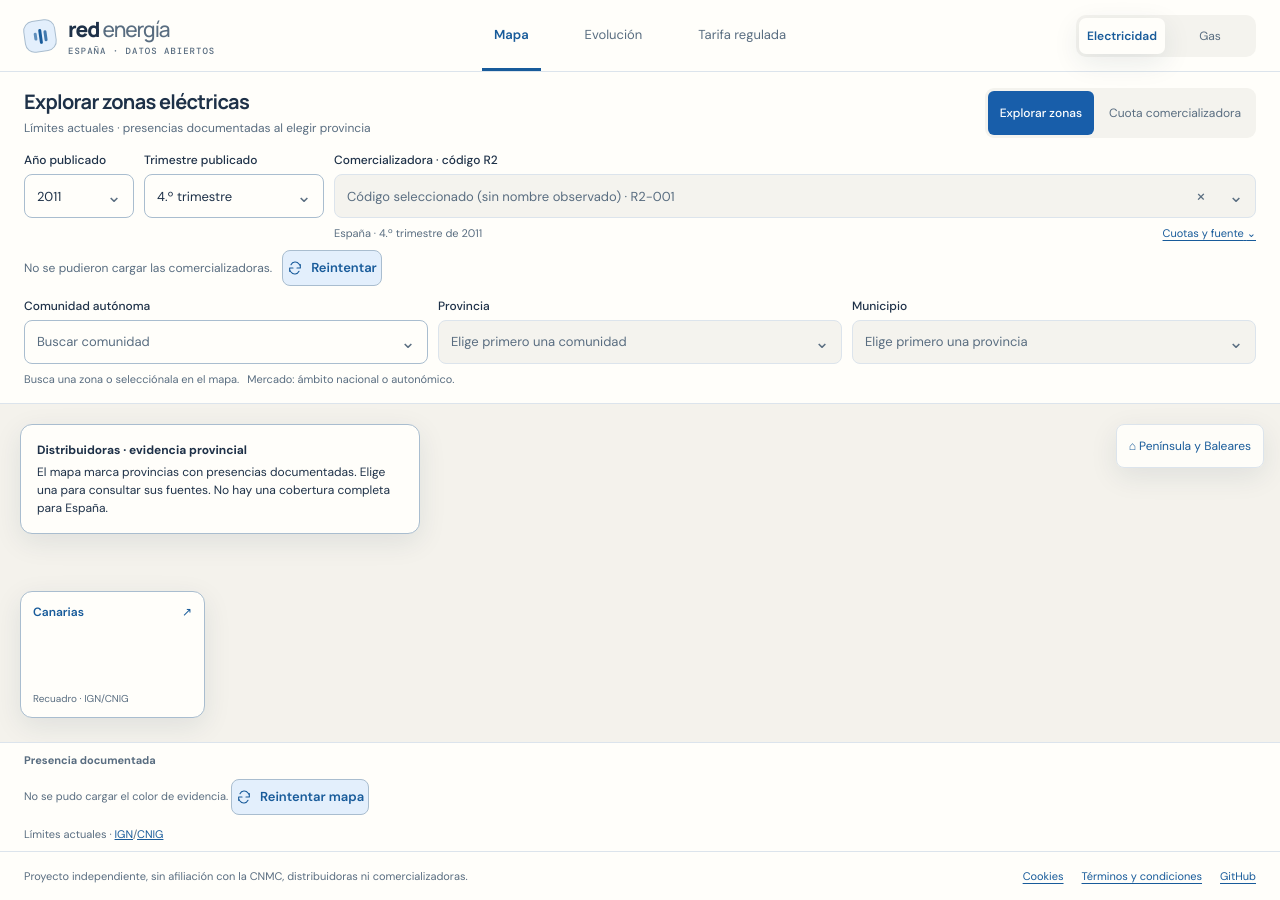
it: map loading errors › recovers an older published quarter and prevents duplicate retries while a request is pending
Check: the dropdown labelled "Comunidad autónoma" is enabled, box [24,320,428,364]
Click the button "Reintentar" at (332, 268), box [282,250,382,286]
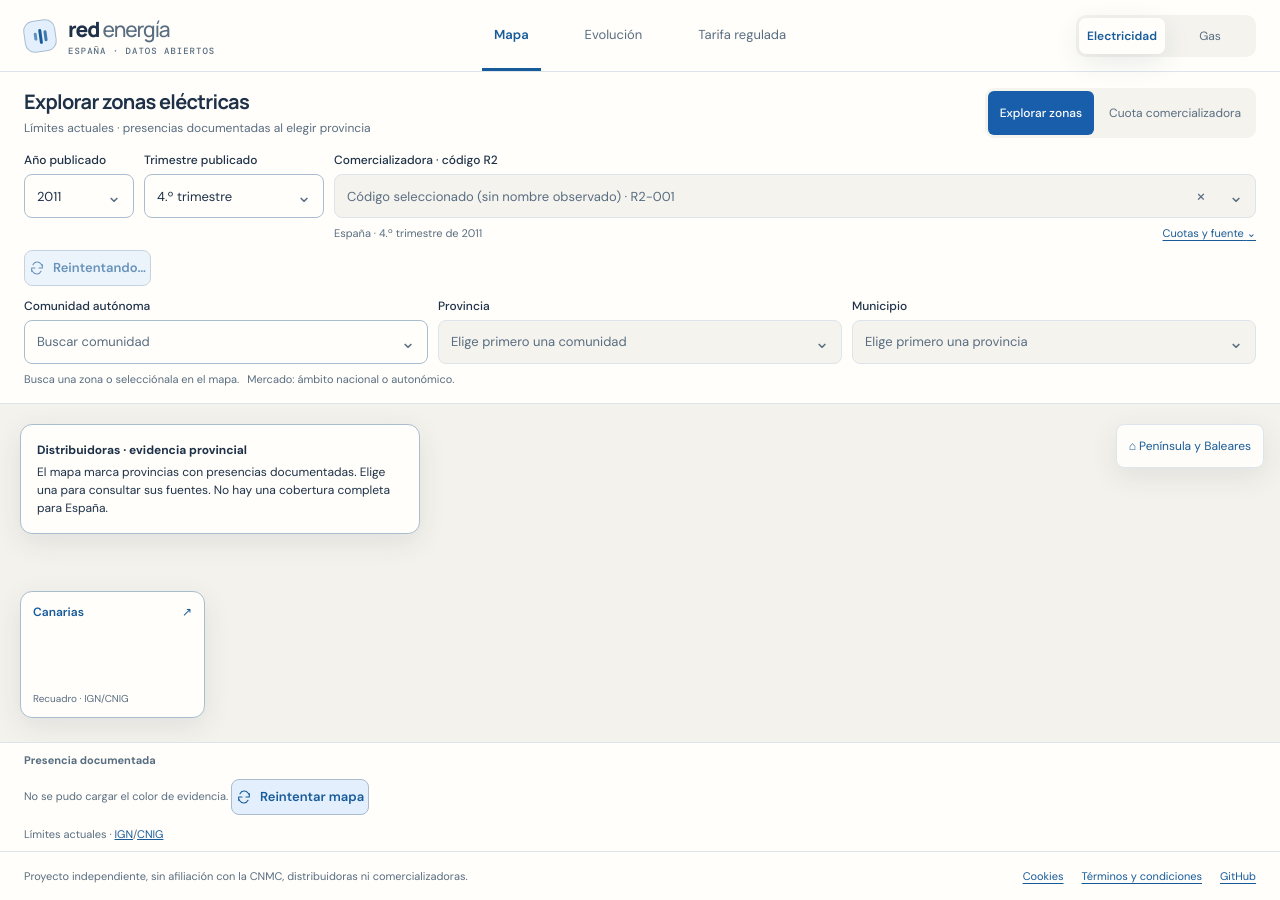
Check: the button named "Reintentar" is disabled
Check: the button named "Reintentar" reads "Reintentando…"
Click the button named "Reintentar" at (88, 268), box [24,250,151,286]
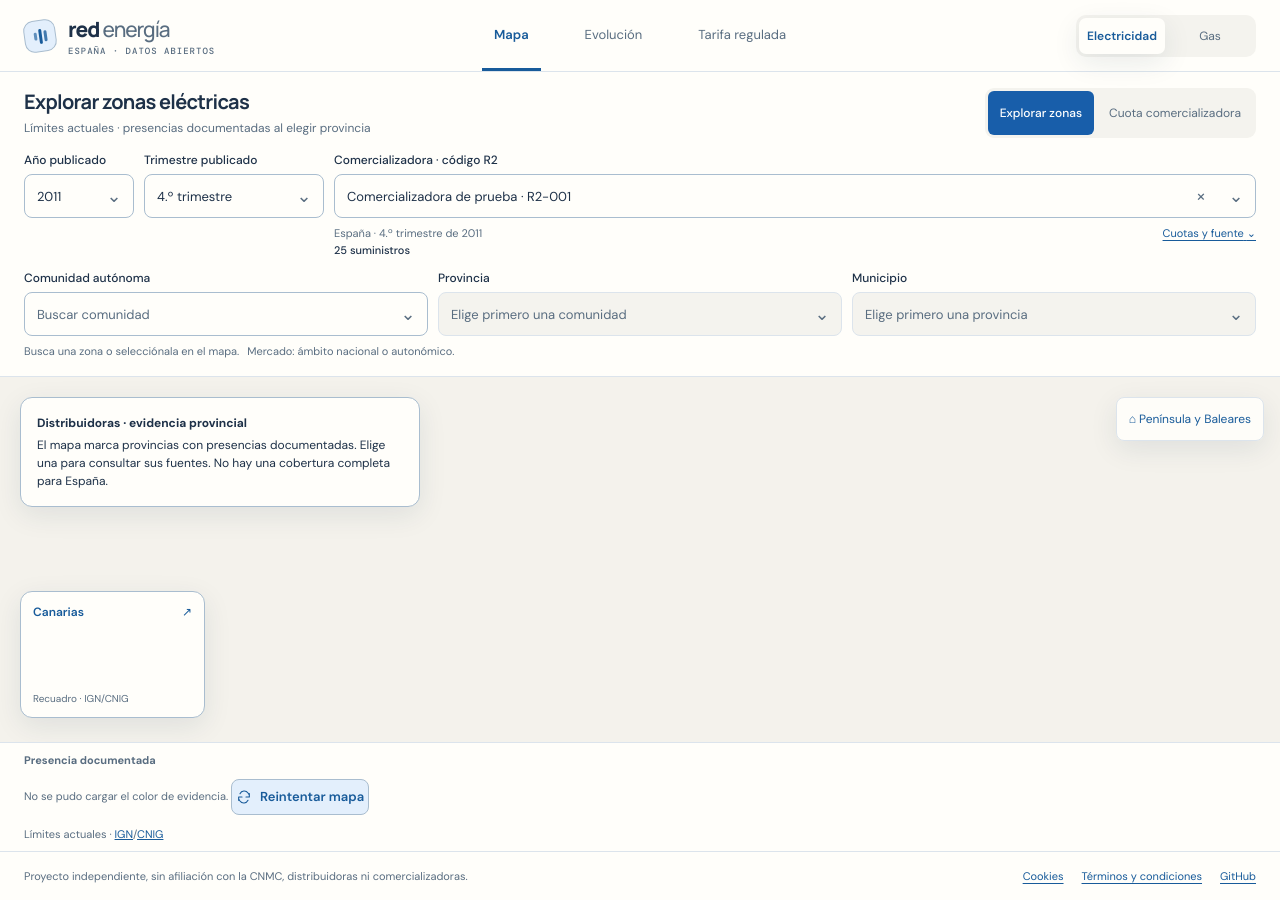
Check: the dropdown labelled "Comercializadora · código R2" is enabled
Focus the dropdown labelled "Comercializadora · código R2" at (795, 196), box [334,174,1256,218]
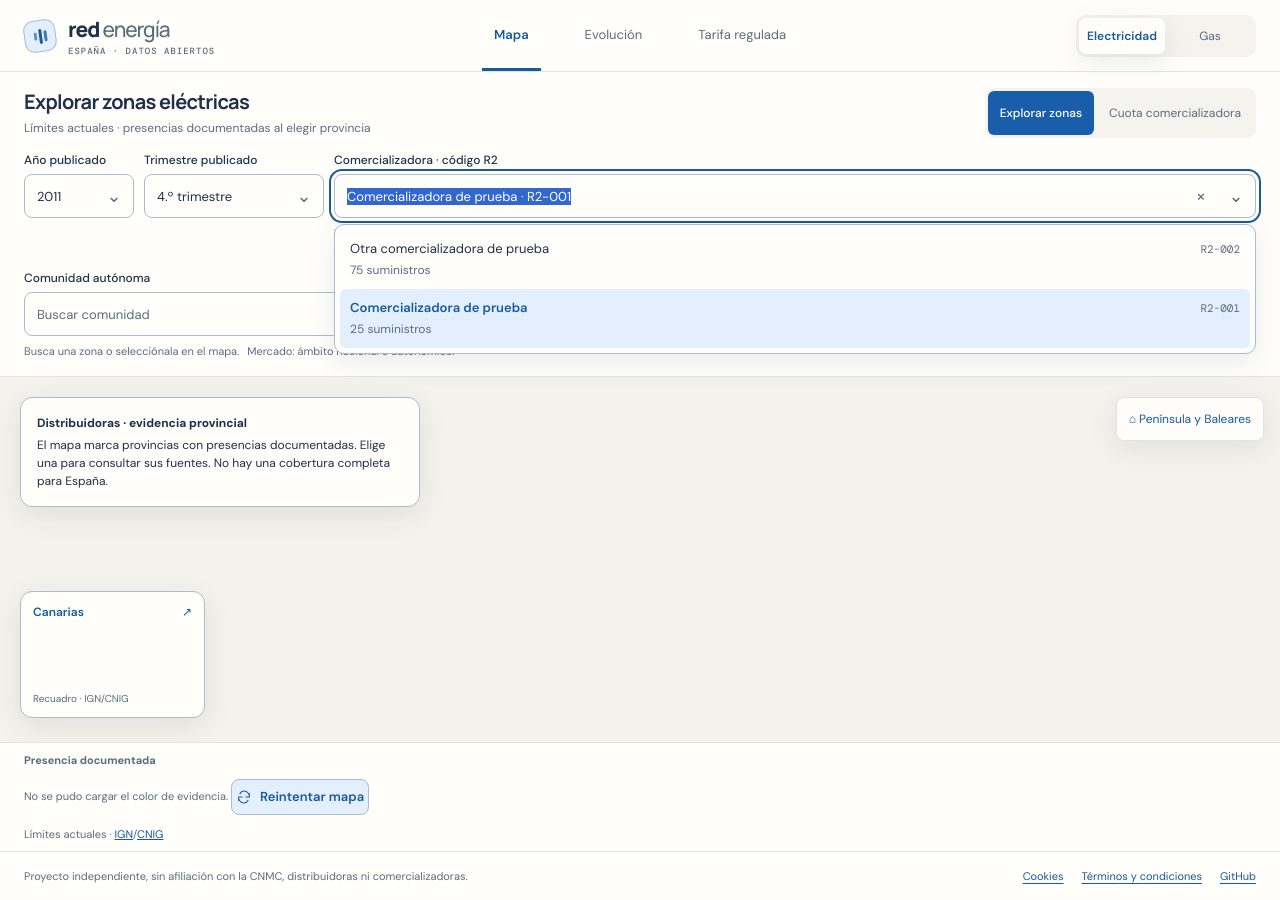
Check: the dropdown labelled "Trimestre publicado" holds "4.º trimestre", box [144,174,324,218]
Check: the list named "Comercializadora · código R2" is shown, box [334,224,1256,354]
